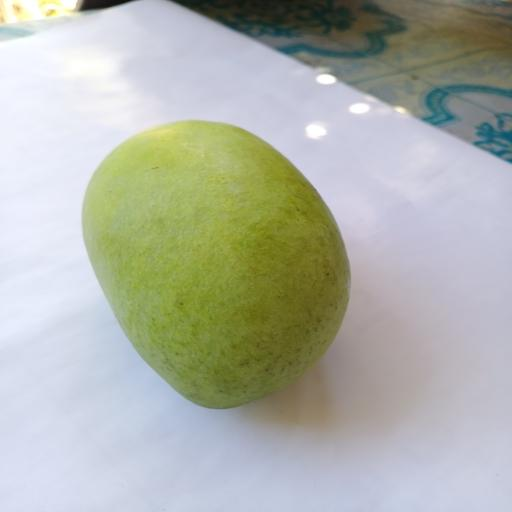mango-unripe: (71, 112, 359, 422)
